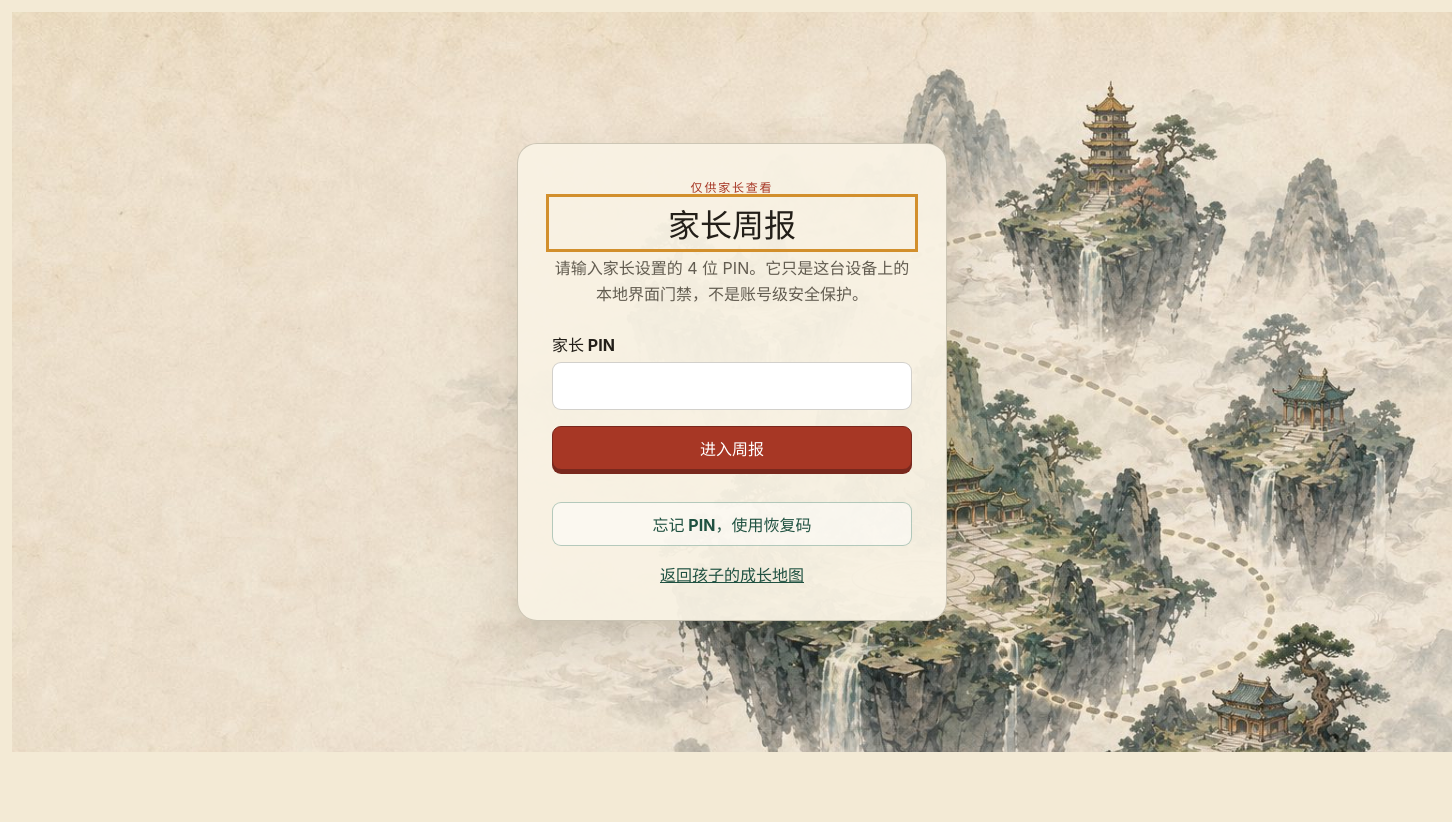
Test case: ParentAccessGate › uses secret inputs, rejects the retired default, clears login PIN, and leaves change fields empty
In the password field labelled "家长 PIN": (732, 386) left=552, top=362, right=912, bottom=410, type "2580"
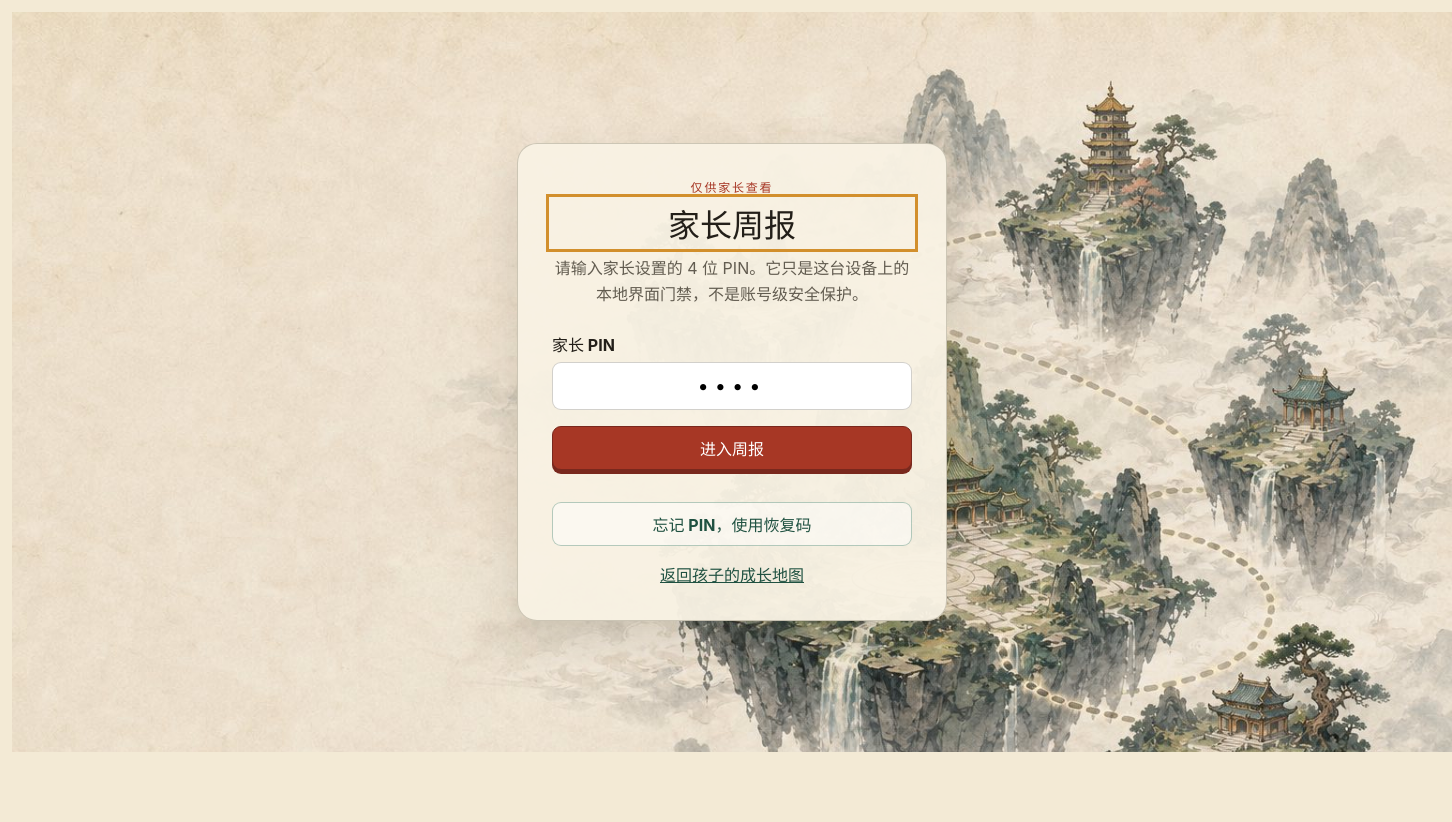
Click the button "进入周报": (732, 448) left=552, top=426, right=912, bottom=470
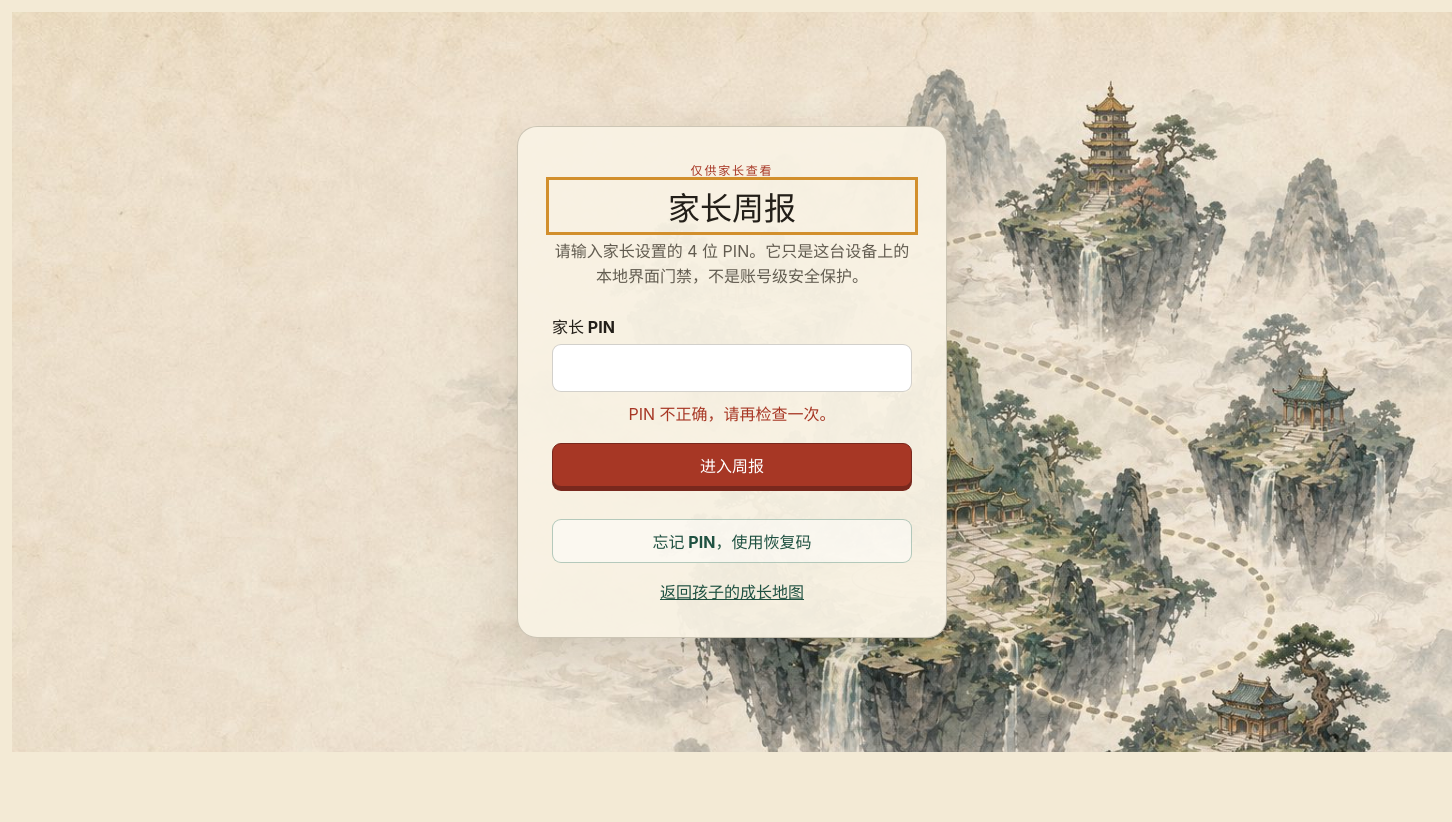
Expected: the text "PIN 不正确，请再检查一次。" is shown, left=628, top=404, right=836, bottom=424
In the password field labelled "家长 PIN": (732, 368) left=552, top=344, right=912, bottom=392, type "4826"
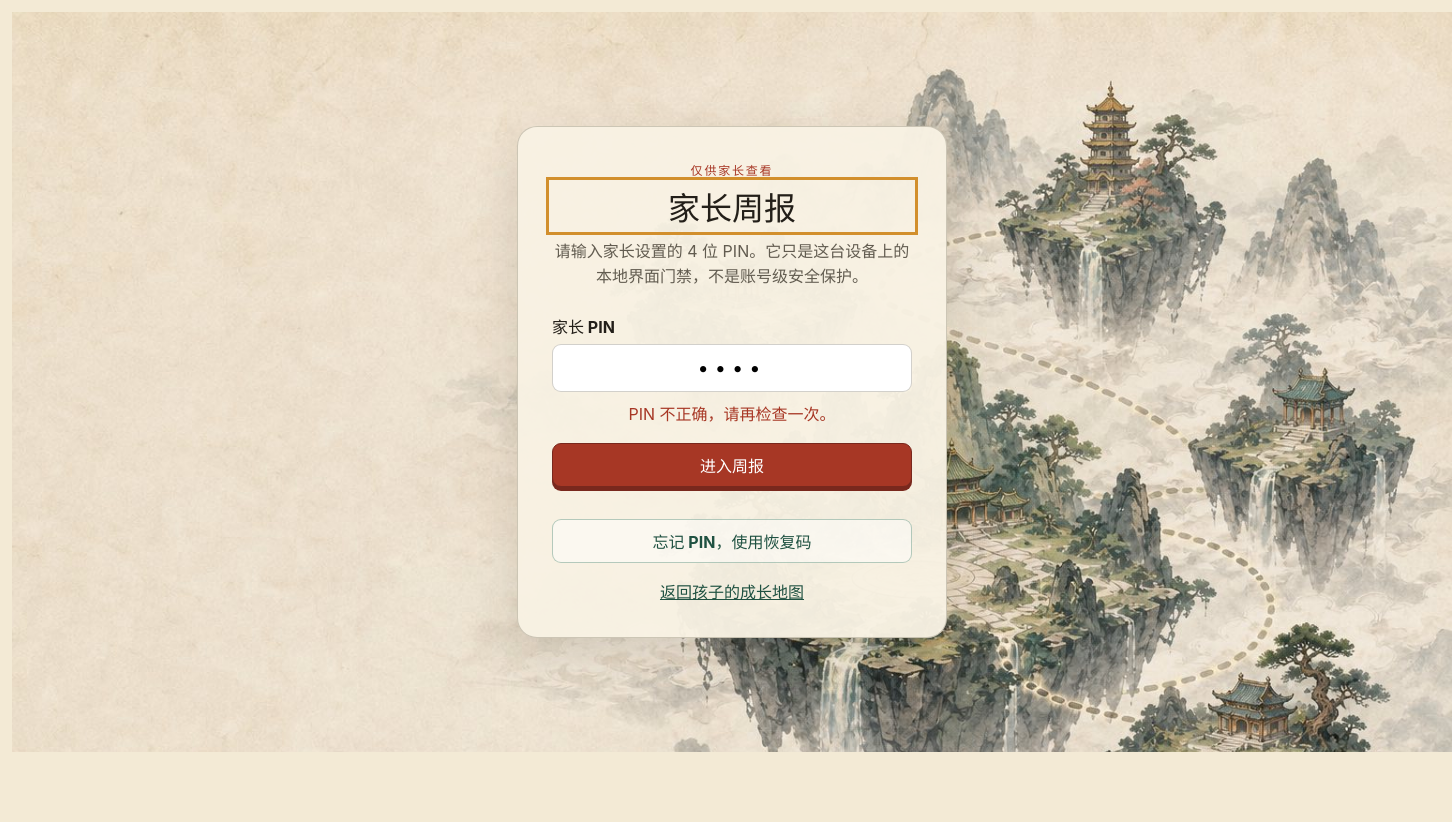
Click the button "进入周报": (732, 465) left=552, top=443, right=912, bottom=487
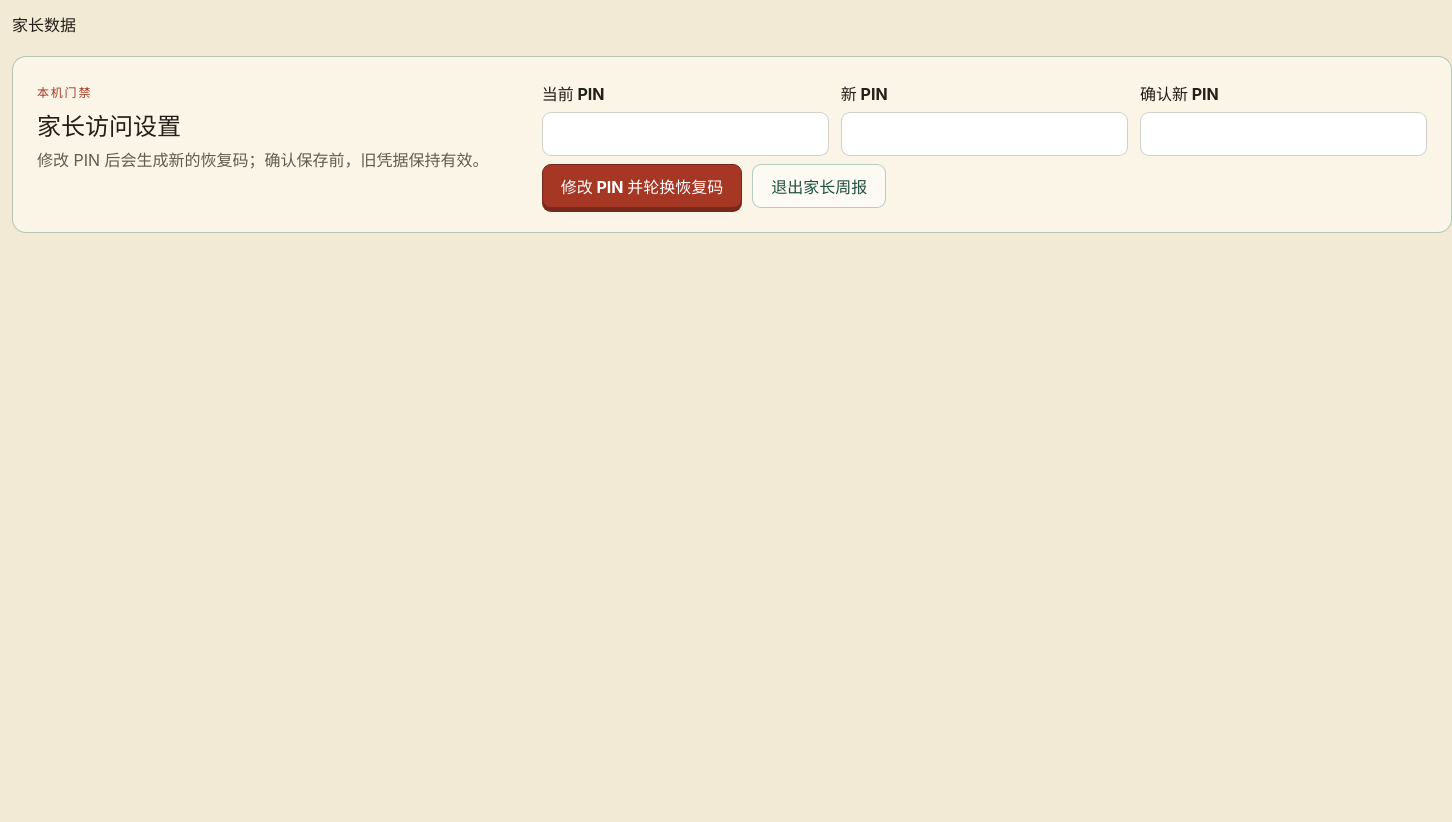
Expected: the text "家长数据" is shown, left=12, top=15, right=76, bottom=35
Expected: the password field labelled "当前 PIN" is empty, left=542, top=112, right=829, bottom=156
Expected: the password field labelled "新 PIN" is empty, left=841, top=112, right=1128, bottom=156
